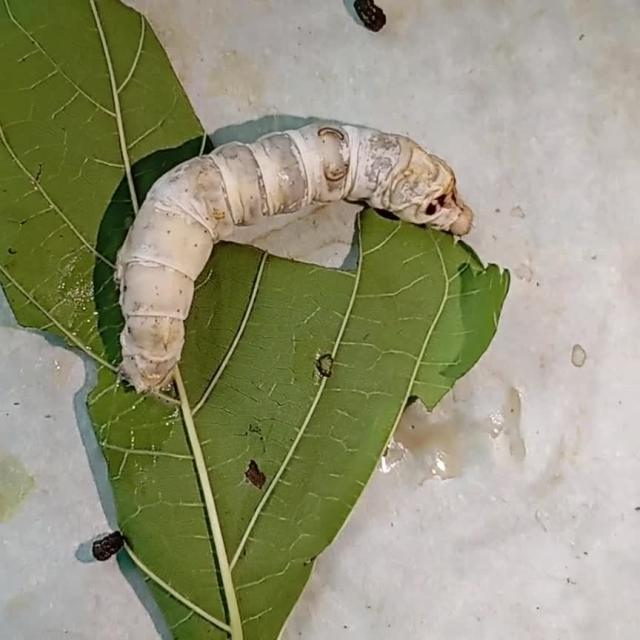Grasserie: (91, 98, 490, 426)
